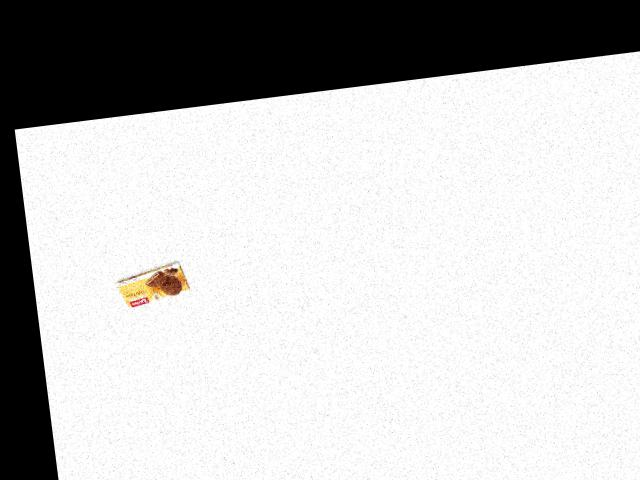chocolate: (104, 266, 196, 311)
